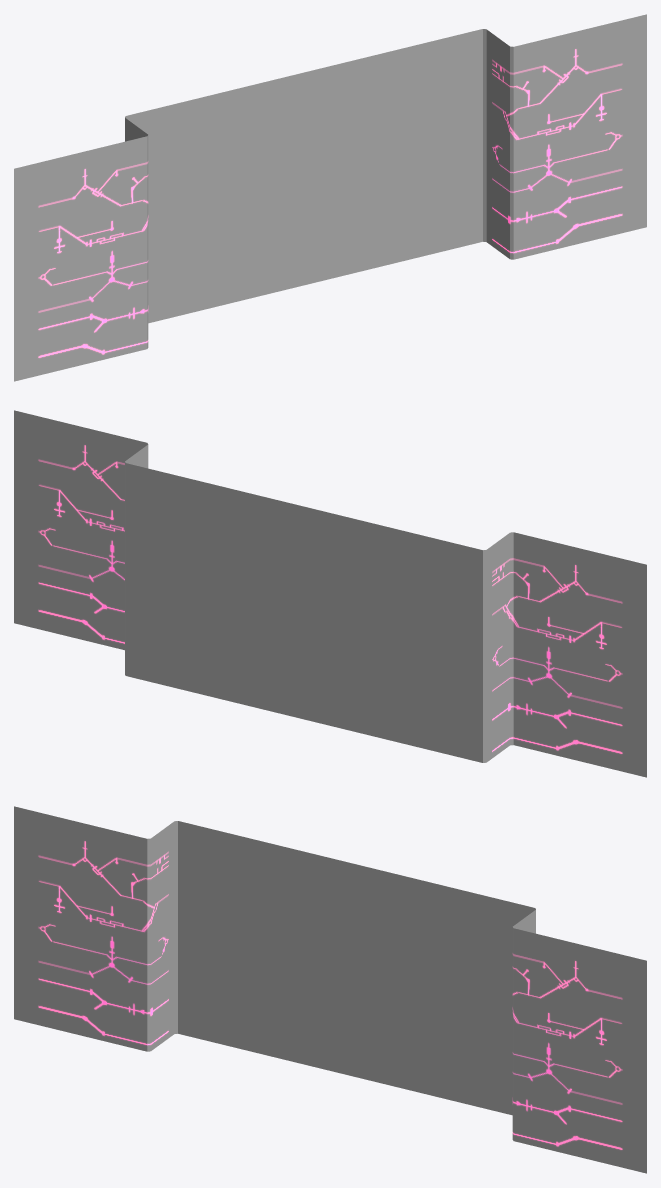
File: Level_001_Tile.fbx
The picture shows the model from 3 angles, top to bottom: view 1: azimuth 30°, elevation 25°; view 2: azimuth 150°, elevation 25°; view 3: azimuth 330°, elevation 25°; orthographic projection.
Visible parts, largest first — view 1: Level_001_Tile; view 2: Level_001_Tile; view 3: Level_001_Tile.
Part boxes in pixels (x1,y1,x2,y2): Level_001_Tile: (14, 14, 646, 381); Level_001_Tile: (14, 410, 646, 777); Level_001_Tile: (14, 806, 646, 1173).
Bounding box in the file's own units: 2800 × 900 × 200.
